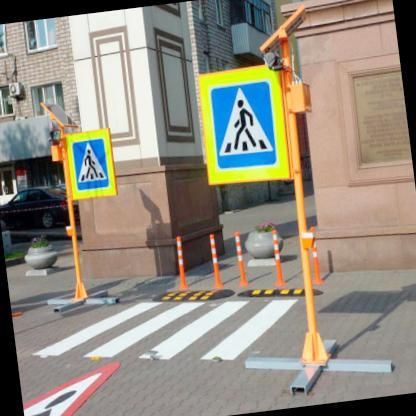road_sign: (199, 65, 290, 183), (66, 128, 117, 199)
